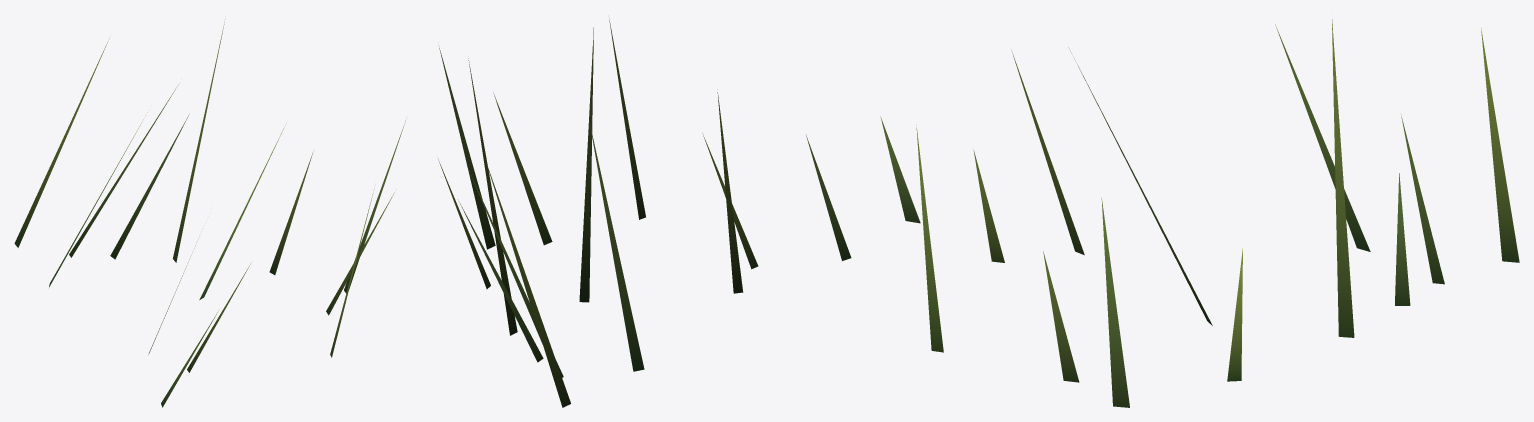
File: seagrass-b.lod2.glb
3 renders of one model, left to right at view 1: azimuth 30°, elevation 25°; view 2: azimuth 150°, elevation 25°; view 3: azimuth 270°, elevation 25°, orthographic. The views are drawn at different scales.
Bounding box in the file's own units: 0.9777 × 0.7195 × 1.17.
